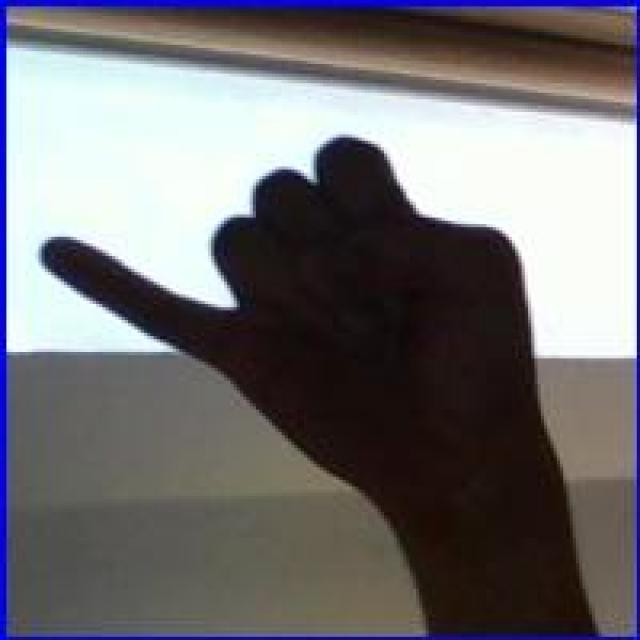J: (27, 118, 555, 506)
